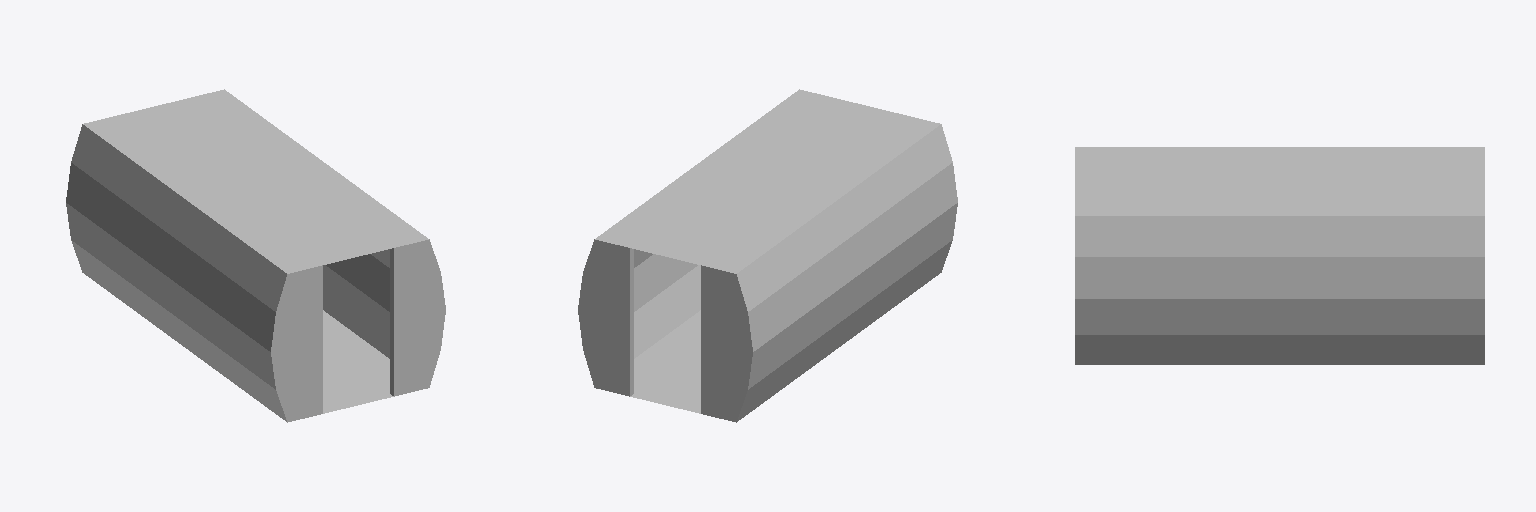
The model's file is I-Corridor_Colored.obj.
The picture shows the model from 3 angles: view 1: azimuth 30°, elevation 25°; view 2: azimuth 150°, elevation 25°; view 3: azimuth 270°, elevation 25°; orthographic projection.
Visible parts, largest first — view 1: Plane; view 2: Plane; view 3: Plane.
Boxes of the visible parts, box(x1,y1,x2,y2) form: Plane: box(66, 89, 445, 422); Plane: box(578, 89, 957, 422); Plane: box(1075, 147, 1484, 364).
Bounding box in the file's own units: 2.47 × 2 × 5.